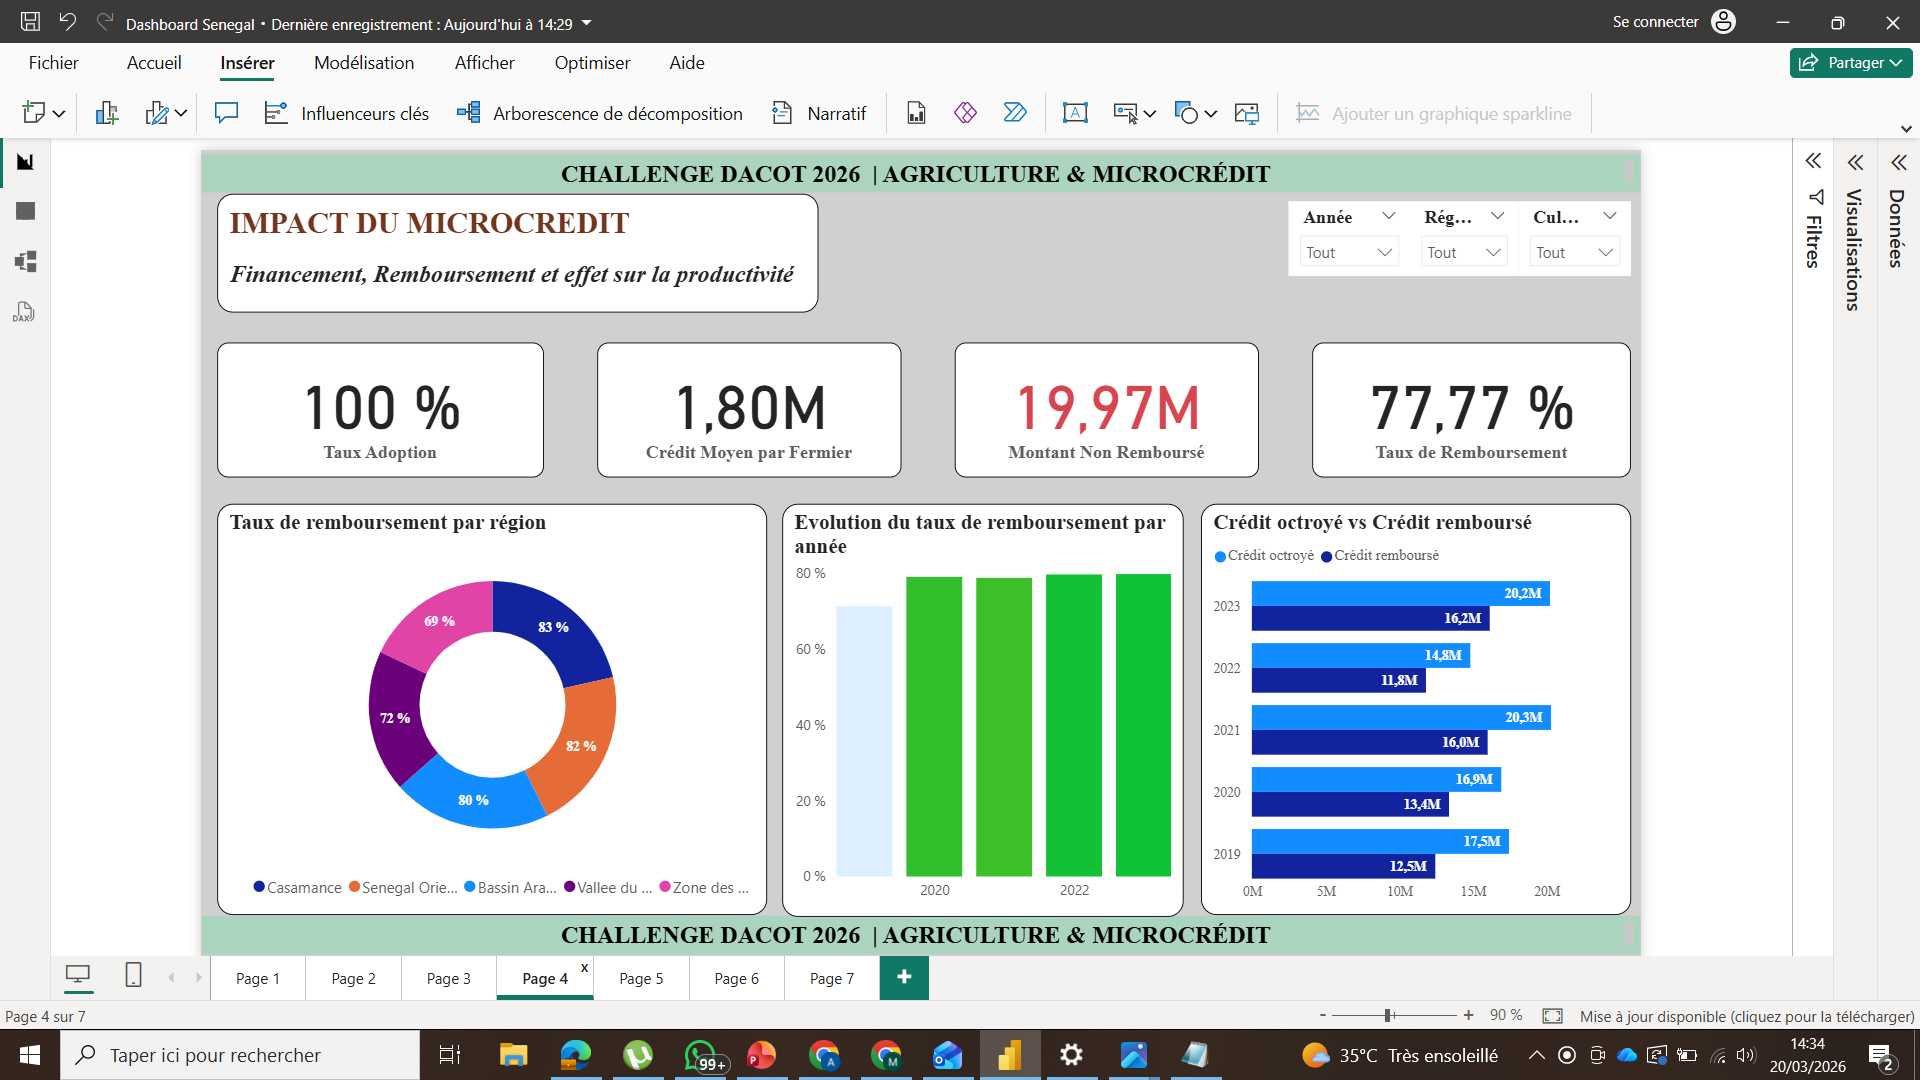

What the dashboard file says about the page in this screenshot:
{"tool":"powerbi","page":{"name":"Page 4","canvas":[1280,720],"ordinal":3},"visuals":[{"type":"textbox","box":[0,3.3,1280,34.4],"z":0},{"type":"textbox","box":[0,680,1280,35],"z":1000},{"type":"textbox","box":[14.4,38.9,534.4,105.6],"z":2000},{"type":"card","fields":{"Values":["FaitAgriculture.Taux de remboursement"]},"box":[987.8,171.1,283.3,120],"z":3000},{"type":"card","fields":{"Values":["FaitAgriculture.Montant Non Remboursé"]},"box":[670.2,171.4,270,120],"z":4000},{"type":"card","fields":{"Values":["FaitAgriculture.Crédit Moyen par Fermier"]},"box":[352.4,171.4,270,120],"z":5000},{"type":"card","fields":{"Values":["FaitAgriculture.Taux Adoption"]},"box":[14.4,171.1,290,120],"z":6000},{"type":"columnChart","fields":{"Category":["FaitAgriculture.annee"],"Y":["FaitAgriculture.Taux de remboursement"]},"box":[517.1,314.3,357.1,367.1],"z":7000},{"type":"slicer","fields":{"Values":["FaitAgriculture.annee"]},"box":[966.7,45.2,108.2,66.1],"z":8000},{"type":"slicer","fields":{"Values":["DimRegion.nom_region"]},"box":[1074.7,45.2,96.9,66.7],"z":9000},{"type":"slicer","fields":{"Values":["DimCulture.nom_culture"]},"box":[1171.4,45.2,100,66.7],"z":10000},{"type":"clusteredBarChart","title":"Crédit octroyé vs Crédit remboursé","fields":{"Category":["FaitAgriculture.annee"],"Y":["Sum(FaitAgriculture.montant_credit)","Sum(FaitAgriculture.montant_rembourse)"]},"box":[888.9,314.4,382.2,365.6],"z":11000},{"type":"donutChart","title":"Taux de remboursement par région","fields":{"Y":["FaitAgriculture.Taux de remboursement"],"Category":["DimRegion.nom_region"]},"box":[14.4,314.4,488.9,365.6],"z":12000}]}

Visuals, with their boxes on the page's 1280x720 design canvas (x1, y1, x2, y2). These are canvas units, not pixel positions in the 1920x1080 screenshot, which may show the page scaled, cropped or inside an application window:
textbox: 0,3,1280,38
textbox: 0,680,1280,715
textbox: 14,39,549,144
card - FaitAgriculture.Taux de remboursement: 988,171,1271,291
card - FaitAgriculture.Montant Non Remboursé: 670,171,940,291
card - FaitAgriculture.Crédit Moyen par Fermier: 352,171,622,291
card - FaitAgriculture.Taux Adoption: 14,171,304,291
columnChart - FaitAgriculture.annee x FaitAgriculture.Taux de remboursement: 517,314,874,681
slicer - FaitAgriculture.annee: 967,45,1075,111
slicer - DimRegion.nom_region: 1075,45,1172,112
slicer - DimCulture.nom_culture: 1171,45,1271,112
"Crédit octroyé vs Crédit remboursé" clusteredBarChart: 889,314,1271,680
"Taux de remboursement par région" donutChart: 14,314,503,680
